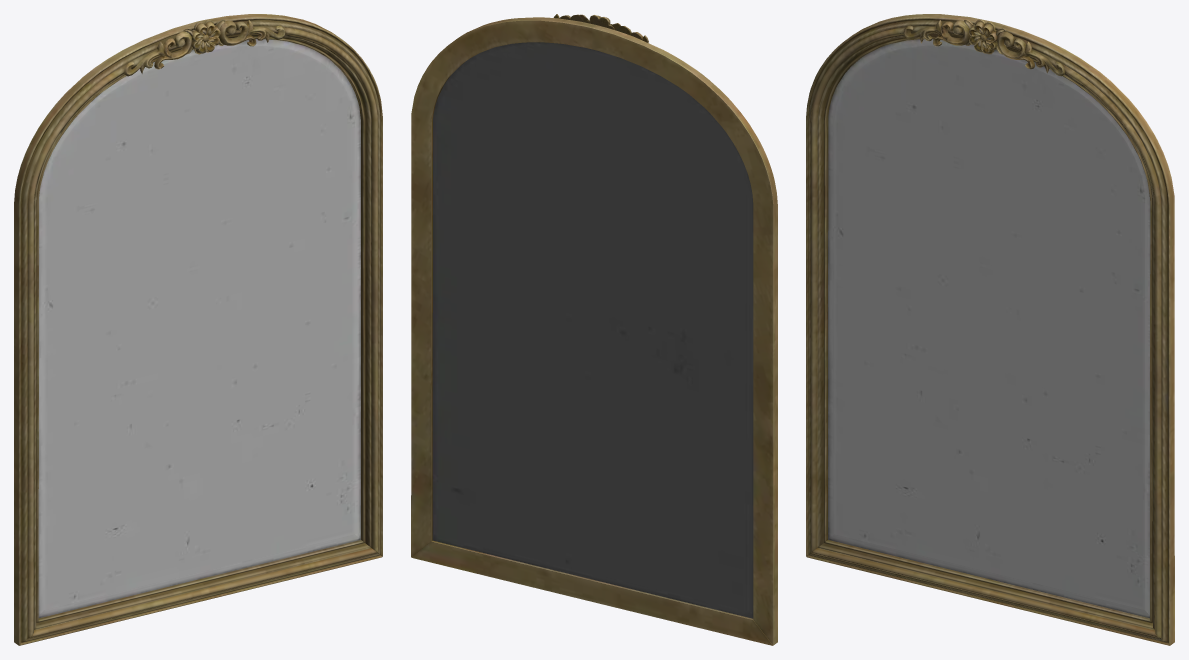
The model's file is ornate_mirror_01.glb.
3 views of the same model, side by side, from view 1: azimuth 30°, elevation 25°; view 2: azimuth 150°, elevation 25°; view 3: azimuth 330°, elevation 25° (orthographic).
Visible parts, largest first — view 1: ornate_mirror_01; view 2: ornate_mirror_01; view 3: ornate_mirror_01.
Boxes of the visible parts, left/top/right/bottom form: ornate_mirror_01: left=14, top=14, right=382, bottom=645; ornate_mirror_01: left=411, top=14, right=777, bottom=645; ornate_mirror_01: left=806, top=14, right=1174, bottom=645.
Bounding box in the file's own units: 0.4865 × 0.7442 × 0.026.
Materials: 1 (1 with a texture image).
